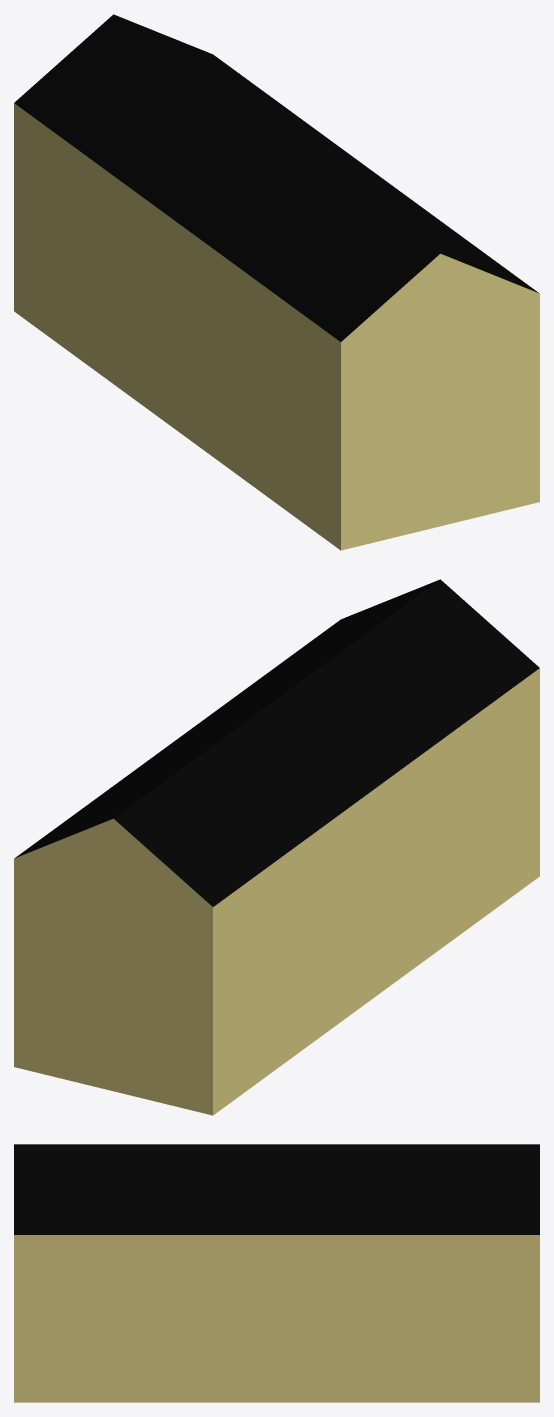
File: house2.fbx
The picture shows the model from 3 angles, top to bottom: view 1: azimuth 30°, elevation 25°; view 2: azimuth 150°, elevation 25°; view 3: azimuth 270°, elevation 25°; orthographic projection. The views are drawn at different scales.
Parts seen in each view (by area): view 1: Cube; view 2: Cube; view 3: Cube.
Boxes of the visible parts, <box> form: Cube: <box>14,14,539,550</box>; Cube: <box>14,579,539,1115</box>; Cube: <box>14,1144,539,1402</box>.
Bounding box in the file's own units: 78.35 × 103 × 223.
